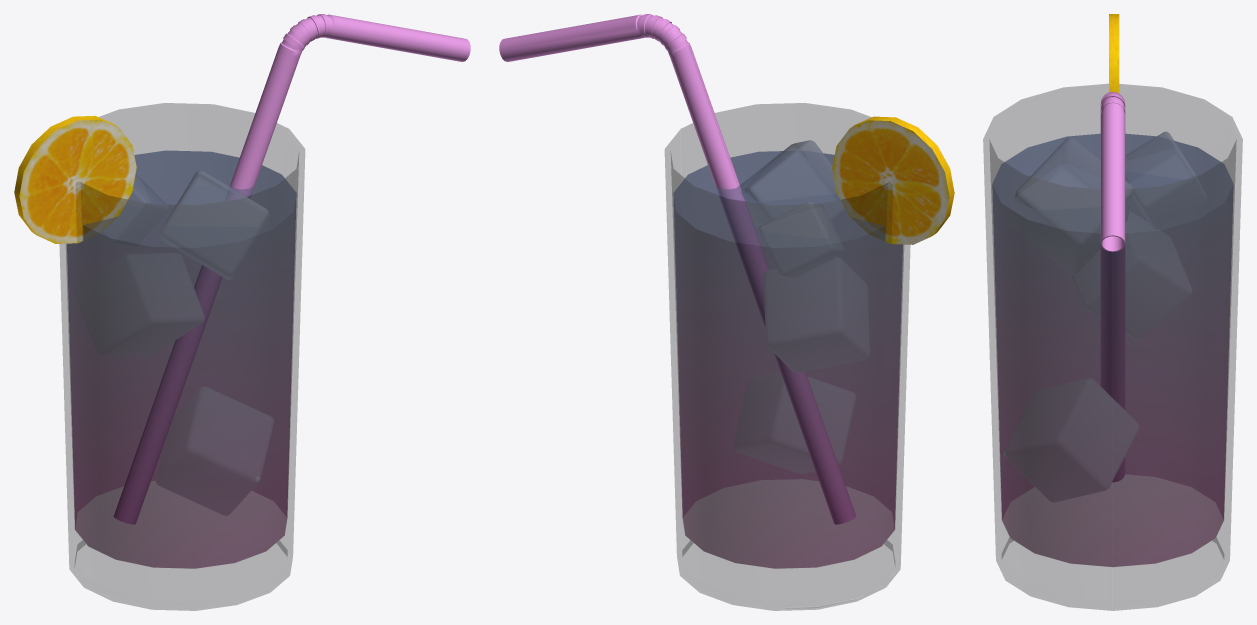
The model's file is drink.glb.
3 views of the same model, side by side, from view 1: azimuth 30°, elevation 25°; view 2: azimuth 150°, elevation 25°; view 3: azimuth 270°, elevation 25° (orthographic). The views are drawn at different scales.
Visible parts, largest first — view 1: Cylinder.001; view 2: Cylinder.001; view 3: Cylinder.001.
Part boxes in pixels (<box>): Cylinder.001: <box>14,14,470,610</box>; Cylinder.001: <box>499,14,954,610</box>; Cylinder.001: <box>983,14,1242,610</box>.
Bounding box in the file's own units: 0.1533 × 0.1677 × 0.0739.
1 material, 1 textured.
